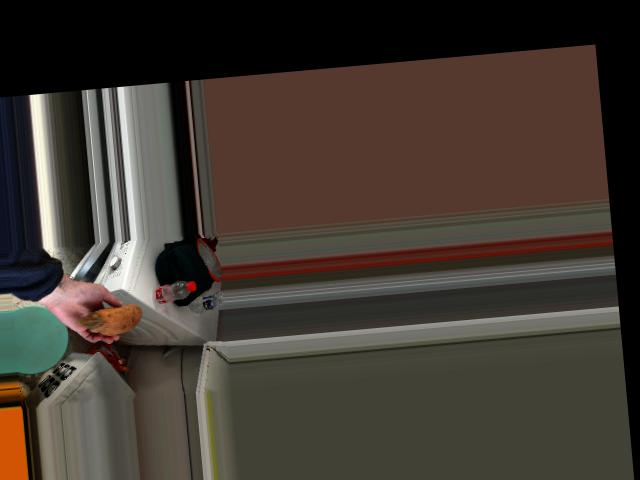sweet_potato: (86, 303, 157, 334)
